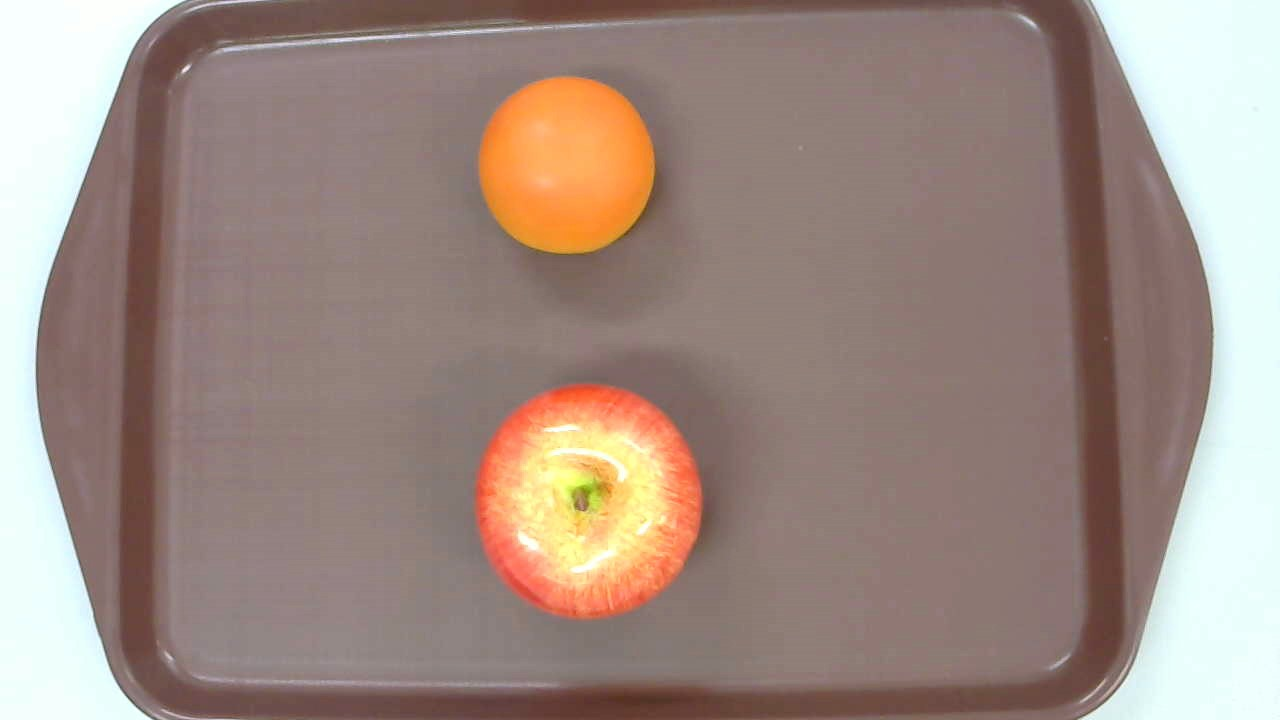bun: (477, 75, 655, 255)
red apple: (473, 382, 701, 618)
